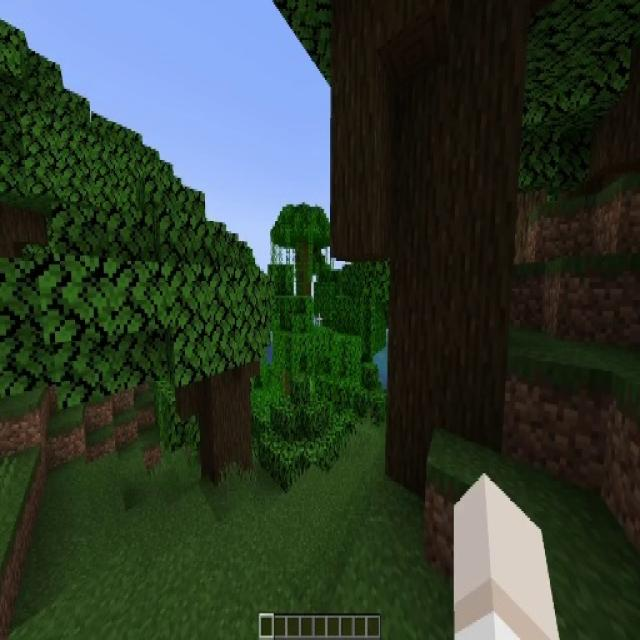dark_oak: (186, 246, 262, 482)
dark_oak_log: (334, 49, 506, 476), (188, 372, 258, 479)
jungle: (271, 199, 331, 359)
